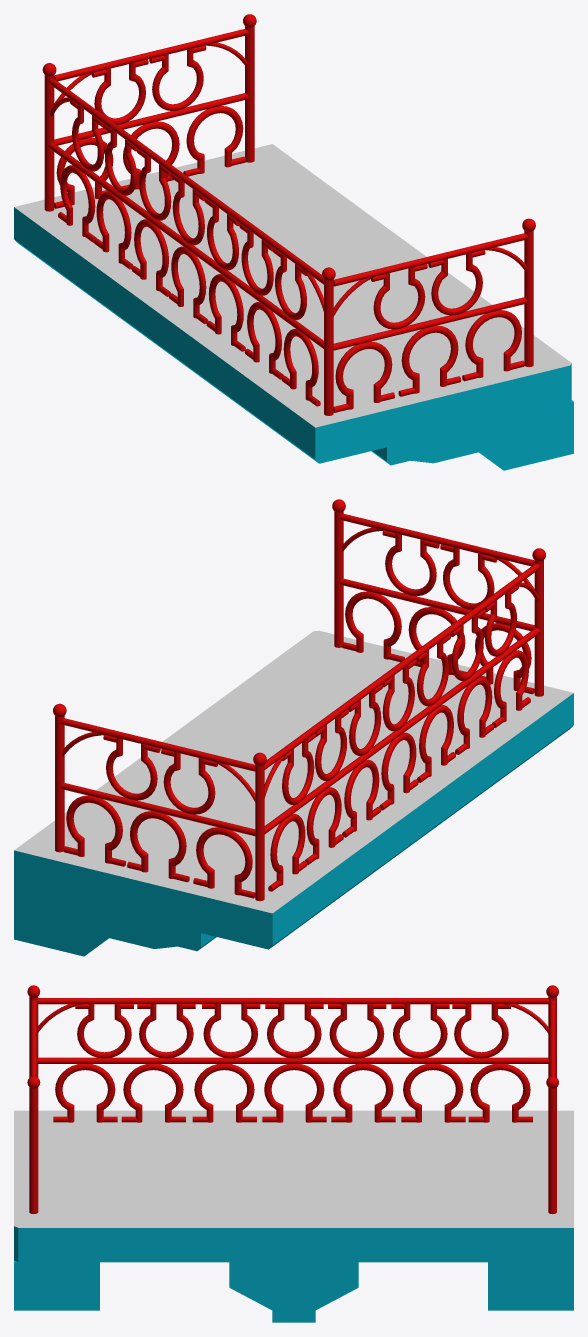
Rendered from BalconyVertexPainted.fbx.
3 views of the same model, one above another, from view 1: azimuth 30°, elevation 25°; view 2: azimuth 150°, elevation 25°; view 3: azimuth 270°, elevation 25° (orthographic). The views are drawn at different scales.
Visible parts, largest first — view 1: Box001; view 2: Box001; view 3: Box001.
Part boxes in pixels (x1,y1,x2,y2): Box001: [14, 14, 573, 470]; Box001: [14, 499, 573, 956]; Box001: [14, 985, 573, 1322].
Size of the model in its own units: 46.84 by 42.93 by 94.57.
